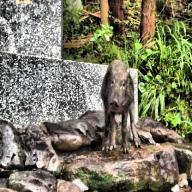boar: (91, 49, 144, 159)
